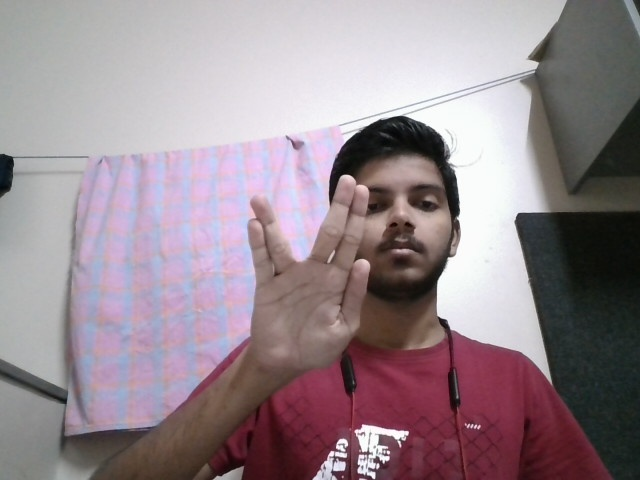Live Long: (237, 170, 372, 377)
